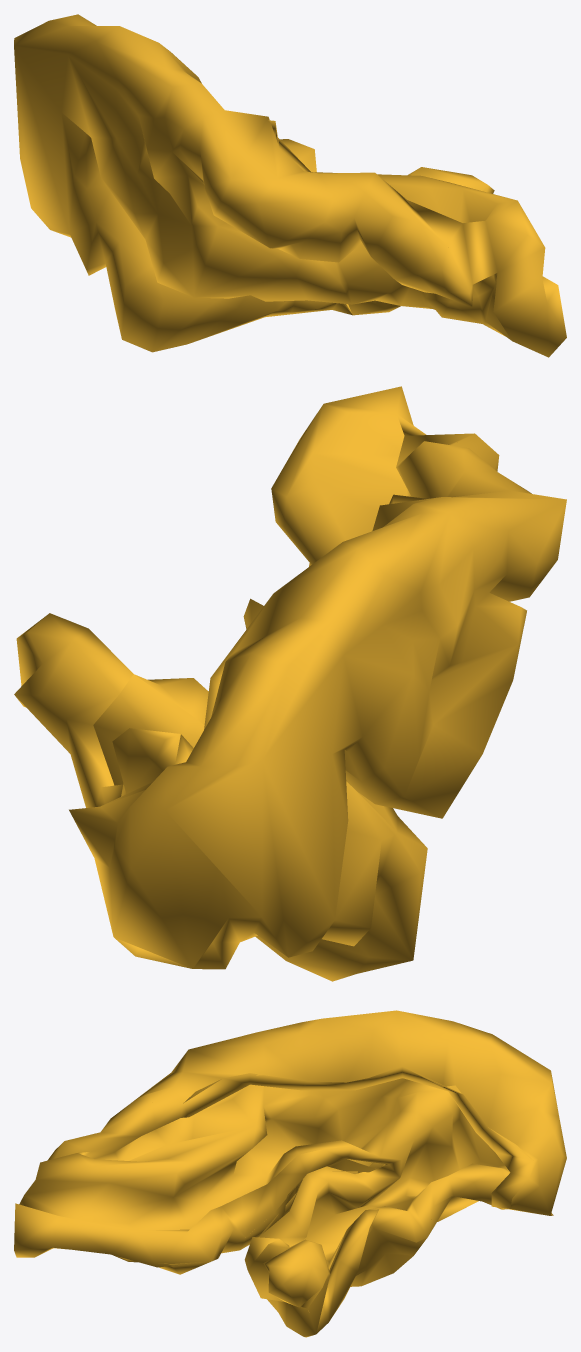
Rendered from nervoso-lingual-gyrus-l.glb.
3 renders of one model, top to bottom at view 1: azimuth 30°, elevation 25°; view 2: azimuth 150°, elevation 25°; view 3: azimuth 270°, elevation 25°, orthographic. The views are drawn at different scales.
Parts seen in each view (by area): view 1: Lingual gyrus.l; view 2: Lingual gyrus.l; view 3: Lingual gyrus.l.
Boxes of the visible parts, x1,y1,x2,y2 form: Lingual gyrus.l: (14, 14, 566, 357); Lingual gyrus.l: (14, 386, 566, 981); Lingual gyrus.l: (14, 1010, 566, 1337).
Size of the model in its own units: 0.0338 by 0.0314 by 0.0609.
